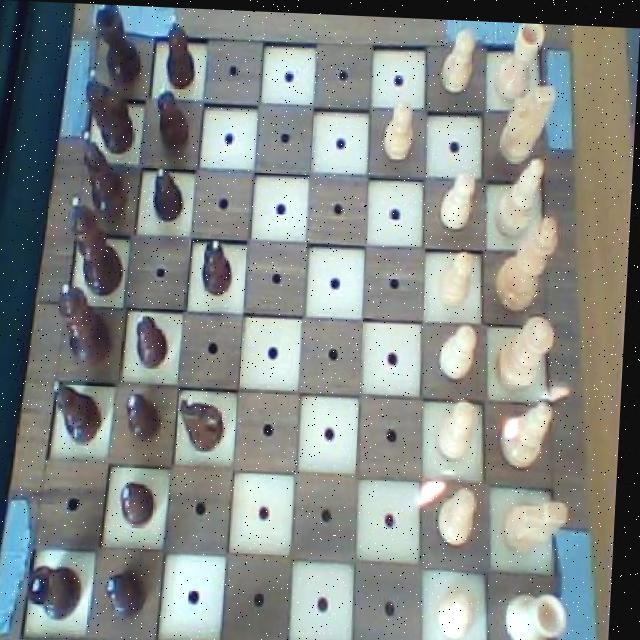bishop: (77, 124, 137, 222), (51, 378, 109, 452)
black-king: (82, 65, 144, 151), (181, 392, 231, 455)
black-knight: (163, 12, 201, 89), (107, 561, 157, 619), (155, 82, 194, 156), (136, 307, 177, 370), (153, 161, 189, 226), (202, 233, 239, 296), (122, 472, 164, 527), (133, 385, 171, 445)
black-queen: (93, 4, 149, 90), (28, 559, 93, 625)
black-rook: (494, 150, 550, 235), (502, 393, 559, 468)
white-bishop: (496, 207, 565, 310)
white-king: (497, 78, 559, 161), (506, 492, 576, 555)
white-knight: (439, 478, 486, 546), (439, 391, 482, 458), (440, 21, 479, 94), (381, 92, 422, 161), (442, 576, 486, 636), (440, 163, 480, 228), (441, 242, 479, 306), (442, 319, 481, 379)
white-pawn: (498, 307, 559, 386)
white-queen: (490, 17, 546, 102), (510, 580, 577, 640)
